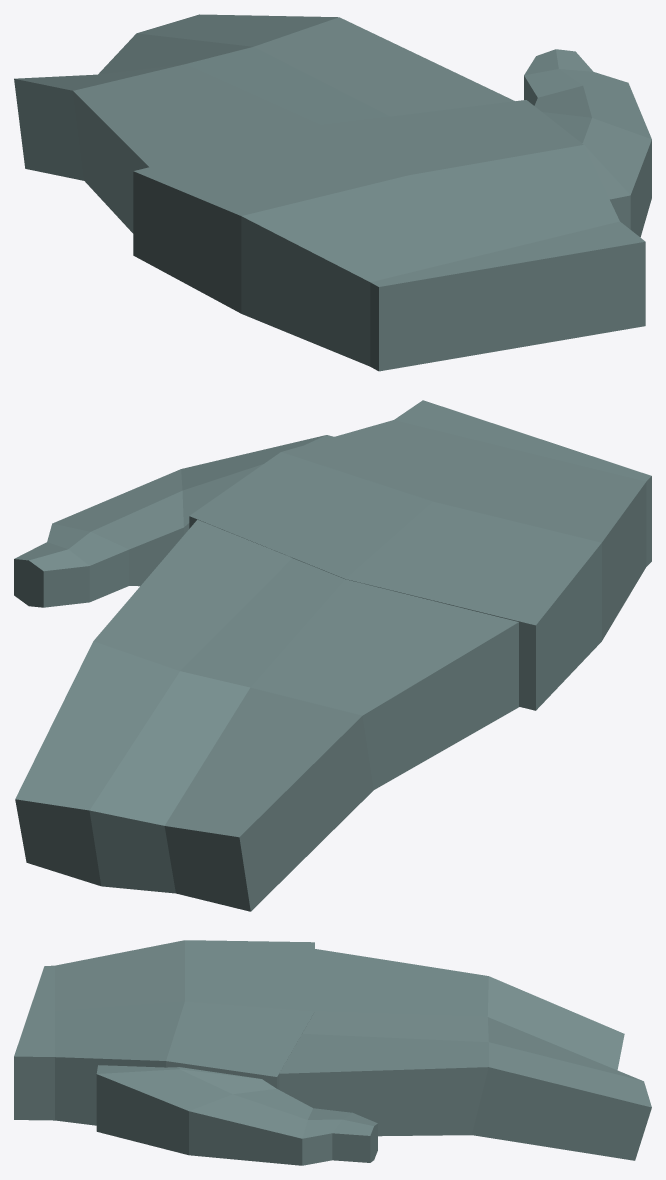
File: VR_Hand_Grey.FBX
3 views of the same model, one above another, from view 1: azimuth 30°, elevation 25°; view 2: azimuth 150°, elevation 25°; view 3: azimuth 270°, elevation 25° (orthographic). The views are drawn at different scales.
Parts seen in each view (by area): view 1: VR_Hand 002; view 2: VR_Hand 002; view 3: VR_Hand 002.
Part boxes in pixels (x1=…): VR_Hand 002: x1=14, y1=14, x2=651, y2=371; VR_Hand 002: x1=14, y1=400, x2=651, y2=911; VR_Hand 002: x1=14, y1=940, x2=651, y2=1165.
Bounding box in the file's own units: 19.08 × 6.73 × 28.84.
